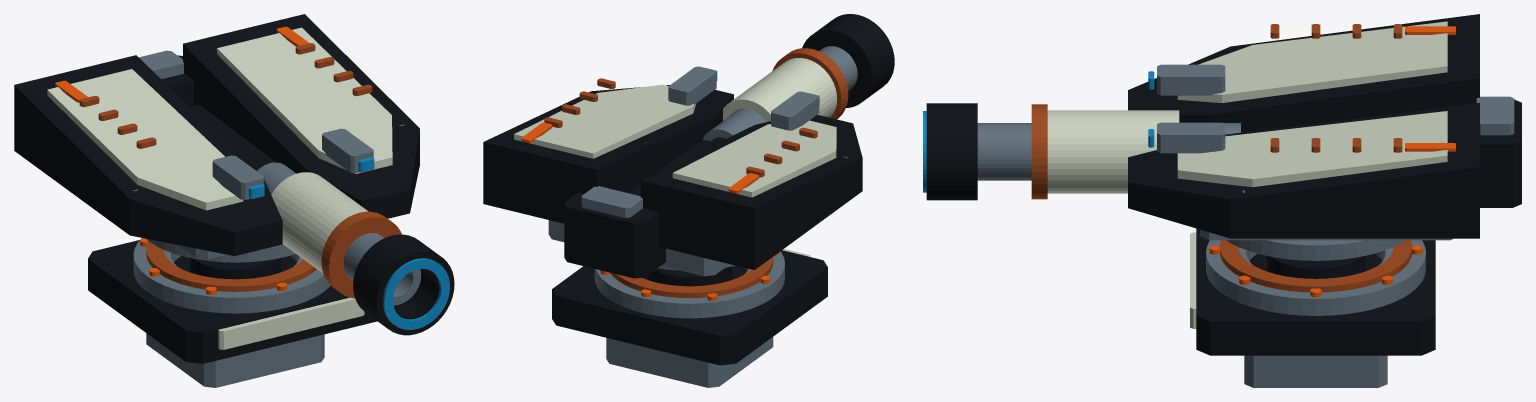
The model's file is M01-023_wedge_profile_turret.obj.
3 views of the same model, side by side, from view 1: azimuth 30°, elevation 25°; view 2: azimuth 150°, elevation 25°; view 3: azimuth 270°, elevation 25° (orthographic). The views are drawn at different scales.
Parts seen in each view (by area): view 1: Wedge_Armor_Left, Wedge_Armor_Right, Wedge_Ceramic_Left, Wedge_Ceramic_Right, Pedestal_Armored_Shoe, Muzzle_Brake_Outer, Barrel_Ceramic_Shroud, Stationary_Bearing_Race, Mount_Top_Key, Pedestal_Ceramic_Front, Barrel_Copper_Heat_Band, Bearing_Copper_Track (+9 smaller); view 2: Wedge_Armor_Left, Wedge_Armor_Right, Pedestal_Armored_Shoe, Wedge_Ceramic_Right, Wedge_Ceramic_Left, Rear_Ammo_Cassette, Stationary_Bearing_Race, Muzzle_Brake_Outer, Barrel_Ceramic_Shroud, Mount_Top_Key, Bearing_Copper_Track, Barrel_Inner_Tube (+7 smaller); view 3: Wedge_Armor_Right, Pedestal_Armored_Shoe, Wedge_Armor_Left, Wedge_Ceramic_Right, Wedge_Ceramic_Left, Barrel_Ceramic_Shroud, Stationary_Bearing_Race, Muzzle_Brake_Outer, Mount_Top_Key, Bearing_Copper_Track, Barrel_Inner_Tube, Rear_Ammo_Cassette (+8 smaller).
Part boxes in pixels (<box>): Wedge_Armor_Left: <box>14,55,282,255</box>; Wedge_Armor_Right: <box>183,14,419,218</box>; Wedge_Ceramic_Left: <box>47,69,243,210</box>; Wedge_Ceramic_Right: <box>217,27,392,173</box>; Pedestal_Armored_Shoe: <box>88,240,377,363</box>; Muzzle_Brake_Outer: <box>353,234,454,335</box>; Barrel_Ceramic_Shroud: <box>271,172,368,273</box>; Stationary_Bearing_Race: <box>133,238,330,313</box>; Mount_Top_Key: <box>146,333,324,387</box>; Pedestal_Ceramic_Front: <box>218,297,364,349</box>; Barrel_Copper_Heat_Band: <box>321,211,401,298</box>; Bearing_Copper_Track: <box>146,241,316,291</box>; Wedge_Armor_Left: <box>640,114,862,269</box>; Wedge_Armor_Right: <box>483,85,733,223</box>; Pedestal_Armored_Shoe: <box>552,250,827,365</box>; Wedge_Ceramic_Right: <box>514,84,696,158</box>; Wedge_Ceramic_Left: <box>672,120,836,197</box>; Rear_Ammo_Cassette: <box>564,192,665,278</box>; Stationary_Bearing_Race: <box>594,251,784,318</box>; Muzzle_Brake_Outer: <box>802,14,894,107</box>; Barrel_Ceramic_Shroud: <box>723,58,836,121</box>; Mount_Top_Key: <box>606,337,773,387</box>; Bearing_Copper_Track: <box>610,257,773,297</box>; Barrel_Inner_Tube: <box>703,46,857,141</box>; Wedge_Armor_Right: <box>1128,103,1479,238</box>; Pedestal_Armored_Shoe: <box>1196,228,1435,355</box>; Wedge_Armor_Left: <box>1128,14,1479,131</box>; Wedge_Ceramic_Right: <box>1177,111,1447,187</box>; Wedge_Ceramic_Left: <box>1177,21,1447,102</box>; Barrel_Ceramic_Shroud: <box>1047,110,1179,193</box>; Stationary_Bearing_Race: <box>1206,240,1425,315</box>; Muzzle_Brake_Outer: <box>926,103,977,200</box>; Mount_Top_Key: <box>1244,355,1387,387</box>; Bearing_Copper_Track: <box>1219,240,1412,292</box>; Barrel_Inner_Tube: <box>977,123,1240,180</box>; Rear_Ammo_Cassette: <box>1480,99,1521,207</box>.
Bounding box in the file's own units: 1.06 × 0.874 × 1.75.
